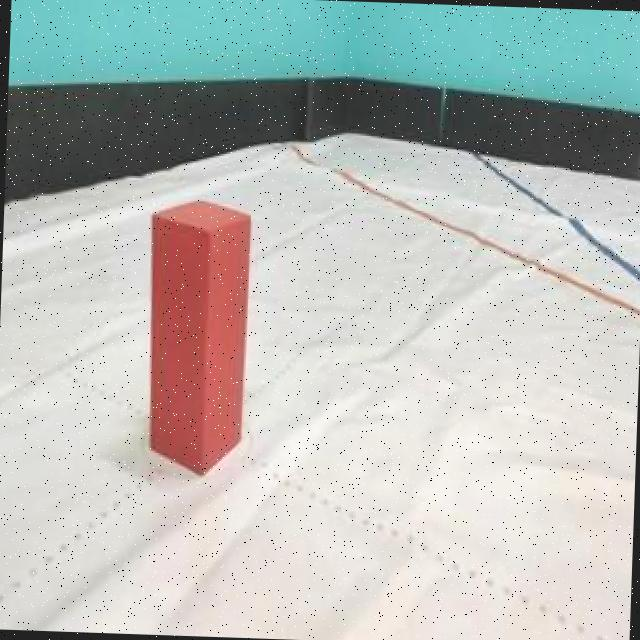redbox: (144, 196, 252, 477)
